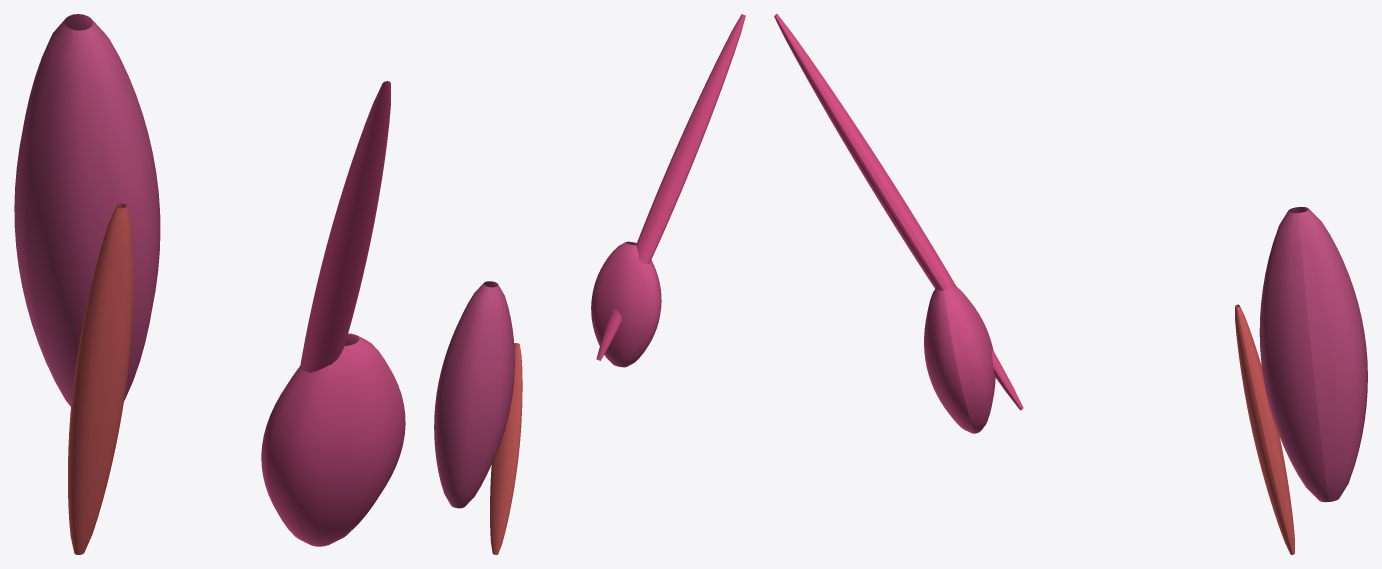
The model's file is muscular.glb.
The picture shows the model from 3 angles, left to right: view 1: azimuth 30°, elevation 25°; view 2: azimuth 150°, elevation 25°; view 3: azimuth 270°, elevation 25°; orthographic projection. The views are drawn at different scales.
Visible parts, largest first — view 1: Mesh_Camelid_Gluteobiceps, Mesh_Camelid_TricepsBrachii, Mesh_Camelid_QuadricepsFemoris, Mesh_Camelid_Brachiocephalicus; view 2: Mesh_Camelid_Gluteobiceps, Mesh_Camelid_TricepsBrachii, Mesh_Camelid_Brachiocephalicus, Mesh_Camelid_QuadricepsFemoris; view 3: Mesh_Camelid_Gluteobiceps, Mesh_Camelid_TricepsBrachii, Mesh_Camelid_Brachiocephalicus, Mesh_Camelid_QuadricepsFemoris.
Boxes of the visible parts, box(x1,y1,x2,y2) form: Mesh_Camelid_Gluteobiceps: box(14, 14, 160, 406); Mesh_Camelid_TricepsBrachii: box(261, 333, 405, 546); Mesh_Camelid_QuadricepsFemoris: box(68, 203, 132, 554); Mesh_Camelid_Brachiocephalicus: box(300, 81, 390, 372); Mesh_Camelid_Gluteobiceps: box(434, 281, 514, 508); Mesh_Camelid_TricepsBrachii: box(591, 241, 661, 367); Mesh_Camelid_Brachiocephalicus: box(596, 14, 745, 360); Mesh_Camelid_QuadricepsFemoris: box(490, 343, 522, 554); Mesh_Camelid_Gluteobiceps: box(1259, 207, 1367, 502); Mesh_Camelid_TricepsBrachii: box(924, 282, 995, 433); Mesh_Camelid_Brachiocephalicus: box(774, 14, 1023, 410); Mesh_Camelid_QuadricepsFemoris: box(1235, 304, 1294, 554).
Bounding box in the file's own units: 0.2208 × 0.9249 × 0.9732.
